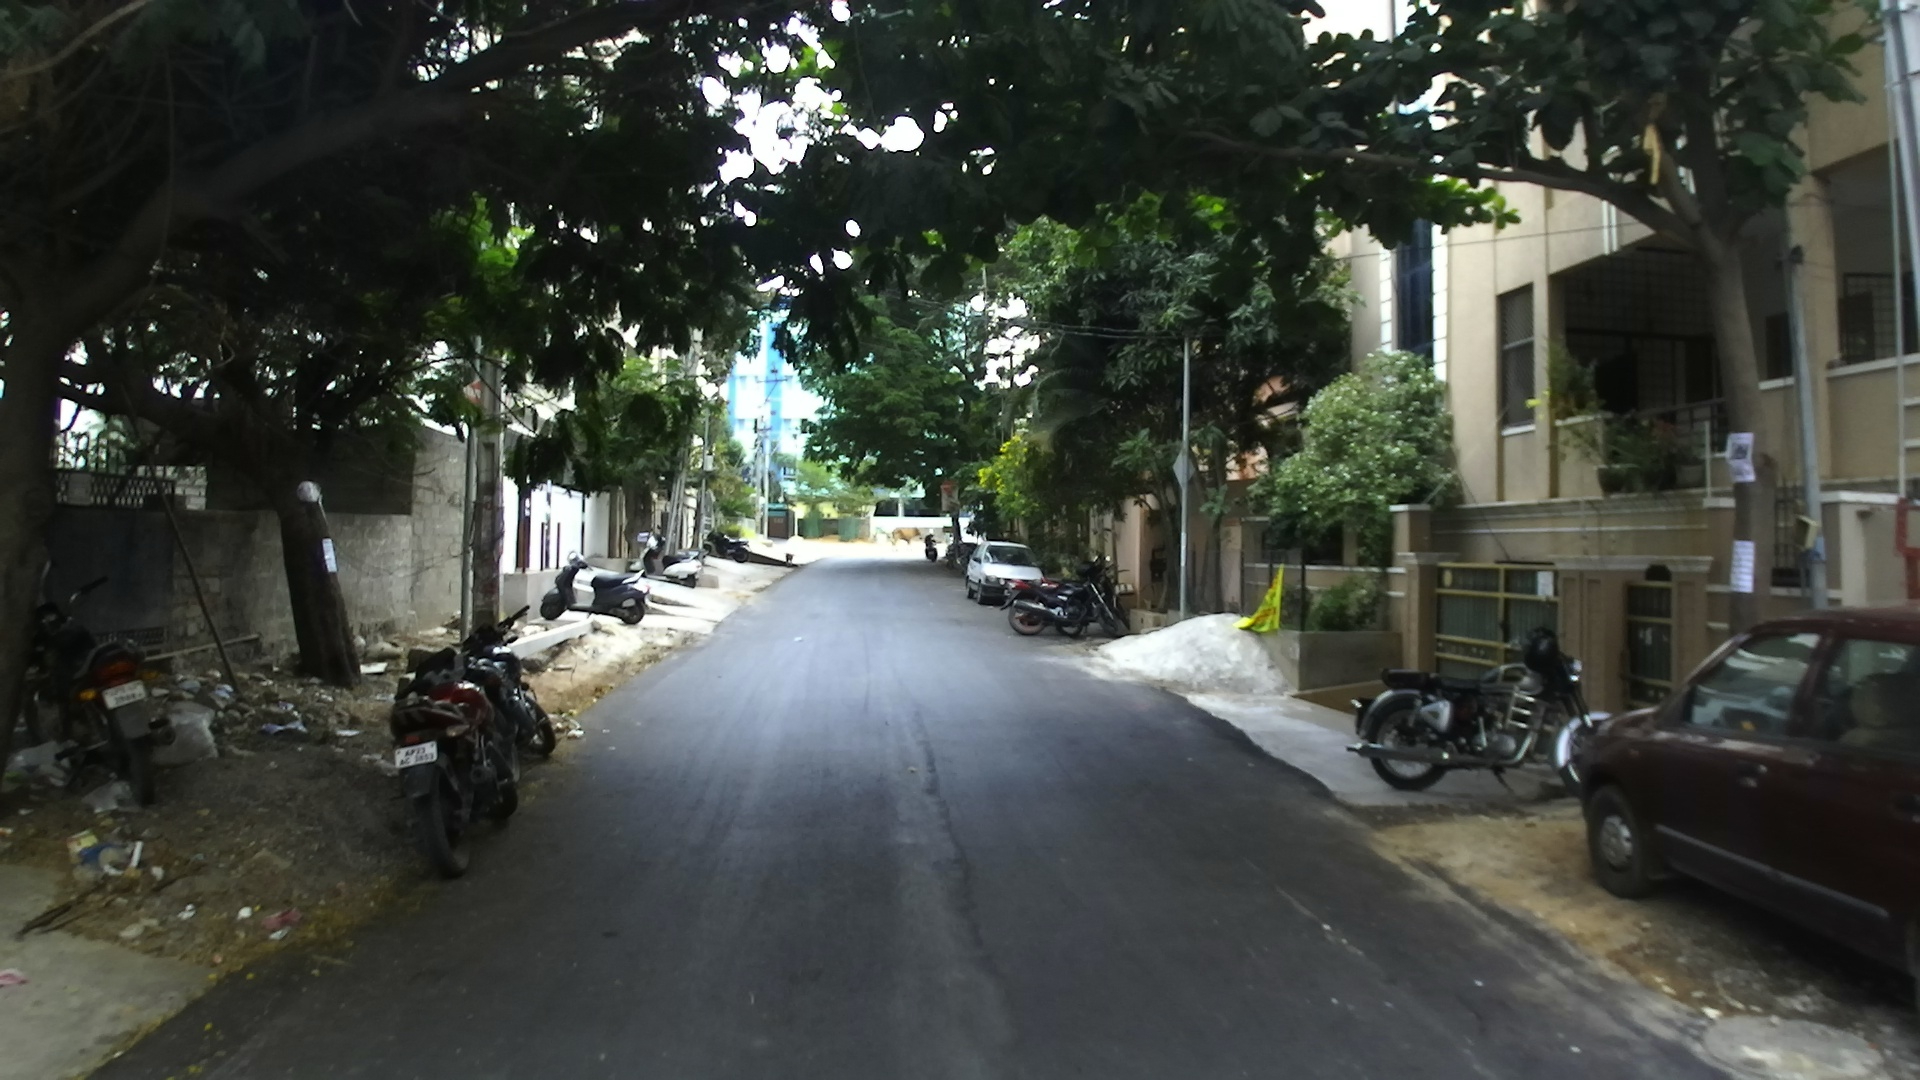vehicle: (1557, 597, 1919, 1013), (382, 616, 567, 880), (538, 556, 651, 626), (963, 543, 1044, 603), (961, 541, 1030, 595)
